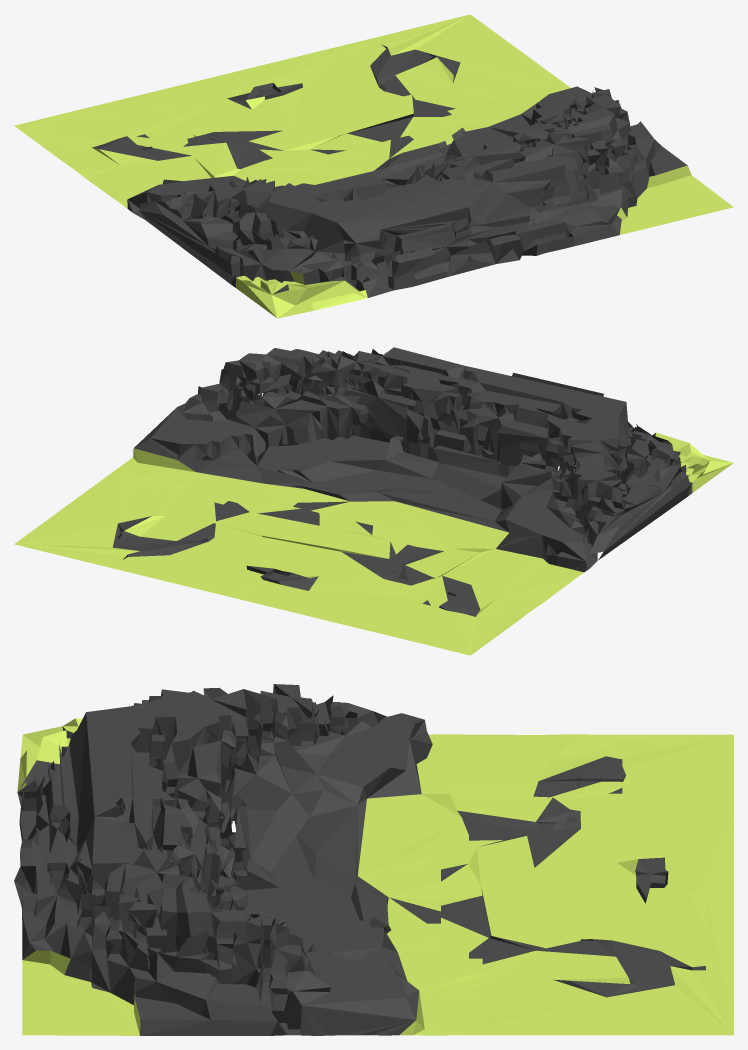
3 renders of one model, top to bottom at view 1: azimuth 30°, elevation 25°; view 2: azimuth 150°, elevation 25°; view 3: azimuth 270°, elevation 25°, orthographic. The views are drawn at different scales.
Visible parts, largest first — view 1: Plane; view 2: Plane; view 3: Plane.
Boxes of the visible parts, <box> form: Plane: <box>14,14,733,318</box>; Plane: <box>14,347,733,655</box>; Plane: <box>14,684,733,1035</box>.
Size of the model in its own units: 2017 by 265 by 2012.
